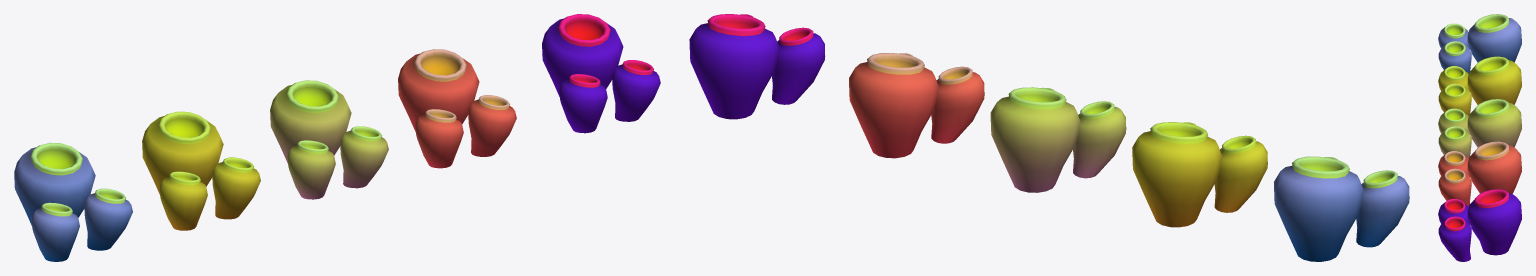
File: Reef_Set5.glb
The picture shows the model from 3 angles, left to right: view 1: azimuth 30°, elevation 25°; view 2: azimuth 150°, elevation 25°; view 3: azimuth 270°, elevation 25°; orthographic projection. The views are drawn at different scales.
Visible parts, largest first — view 1: E_CoralReef.001, E_CoralReef.002, E_CoralReef, E_CoralReef.003, E_CoralReef.004; view 2: E_CoralReef.001, E_CoralReef.002, E_CoralReef, E_CoralReef.003, E_CoralReef.004; view 3: E_CoralReef.004, E_CoralReef.003, E_CoralReef.002, E_CoralReef, E_CoralReef.001.
Boxes of the visible parts, left/top/right/bottom form: E_CoralReef.001: left=142, top=111, right=260, bottom=230; E_CoralReef.002: left=270, top=80, right=388, bottom=199; E_CoralReef: left=14, top=142, right=132, bottom=261; E_CoralReef.003: left=398, top=49, right=516, bottom=168; E_CoralReef.004: left=542, top=14, right=660, bottom=133; E_CoralReef.001: left=1132, top=122, right=1267, bottom=227; E_CoralReef.002: left=990, top=87, right=1126, bottom=192; E_CoralReef: left=1274, top=156, right=1409, bottom=261; E_CoralReef.003: left=849, top=53, right=984, bottom=158; E_CoralReef.004: left=689, top=14, right=825, bottom=119; E_CoralReef.004: left=1438, top=189, right=1521, bottom=261; E_CoralReef.003: left=1438, top=141, right=1521, bottom=206; E_CoralReef.002: left=1438, top=99, right=1521, bottom=158; E_CoralReef: left=1438, top=14, right=1521, bottom=73; E_CoralReef.001: left=1438, top=56, right=1521, bottom=116.
Size of the model in its own units: 9.75 by 1.26 by 1.67.
1 material, 1 textured.
